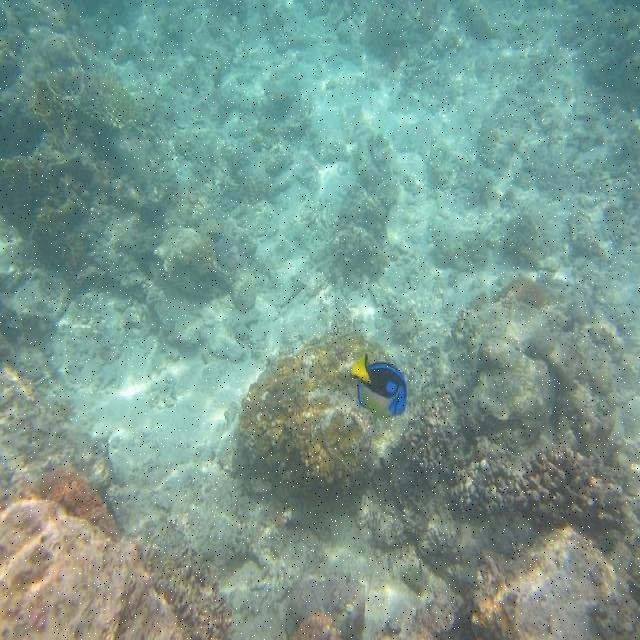fish: (348, 350, 407, 420)
reefs: (403, 389, 621, 529)
